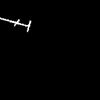double_crochet: (0, 18, 30, 31)
